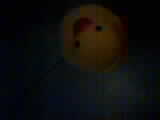duck: (69, 12, 116, 71)
